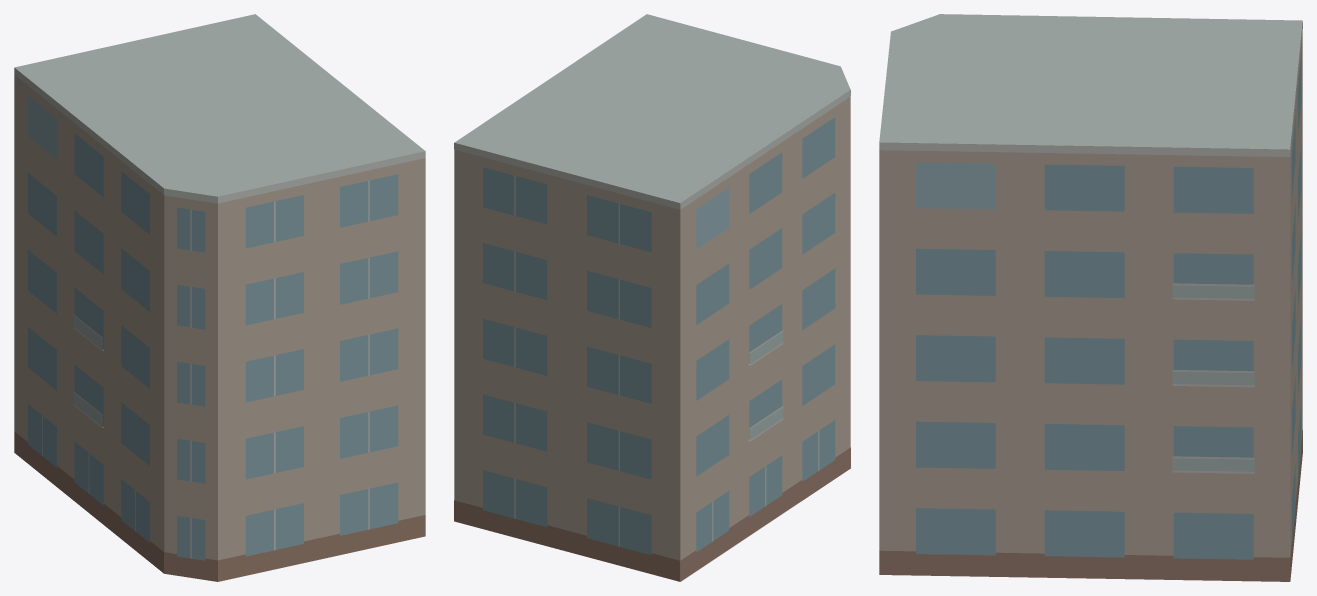
Rendered from survey-upis-32975965.glb.
3 views of the same model, side by side, from view 1: azimuth 30°, elevation 25°; view 2: azimuth 150°, elevation 25°; view 3: azimuth 270°, elevation 25° (orthographic). The views are drawn at different scales.
Visible parts, largest first — view 1: survey-upis-32975965.tmp; view 2: survey-upis-32975965.tmp; view 3: survey-upis-32975965.tmp.
Part boxes in pixels (x1,y1,x2,y2): survey-upis-32975965.tmp: (14,14,425,581); survey-upis-32975965.tmp: (454,14,850,581); survey-upis-32975965.tmp: (879,14,1302,581).
Bounding box in the file's own units: 9.28 × 13.8 × 12.26.
